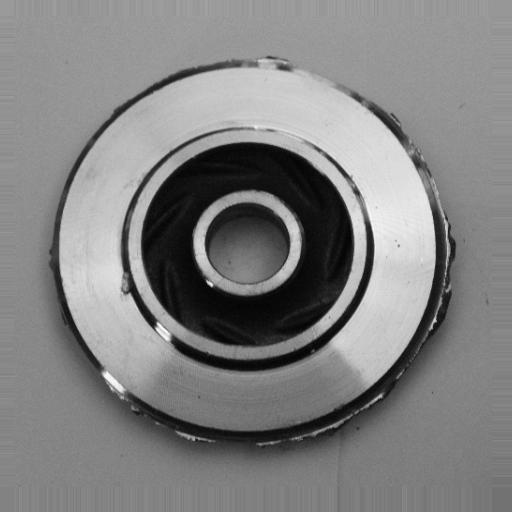casting_with_burr: (47, 51, 458, 449)
crack: (113, 261, 141, 306)
scratch: (240, 118, 324, 146), (153, 313, 190, 353)
